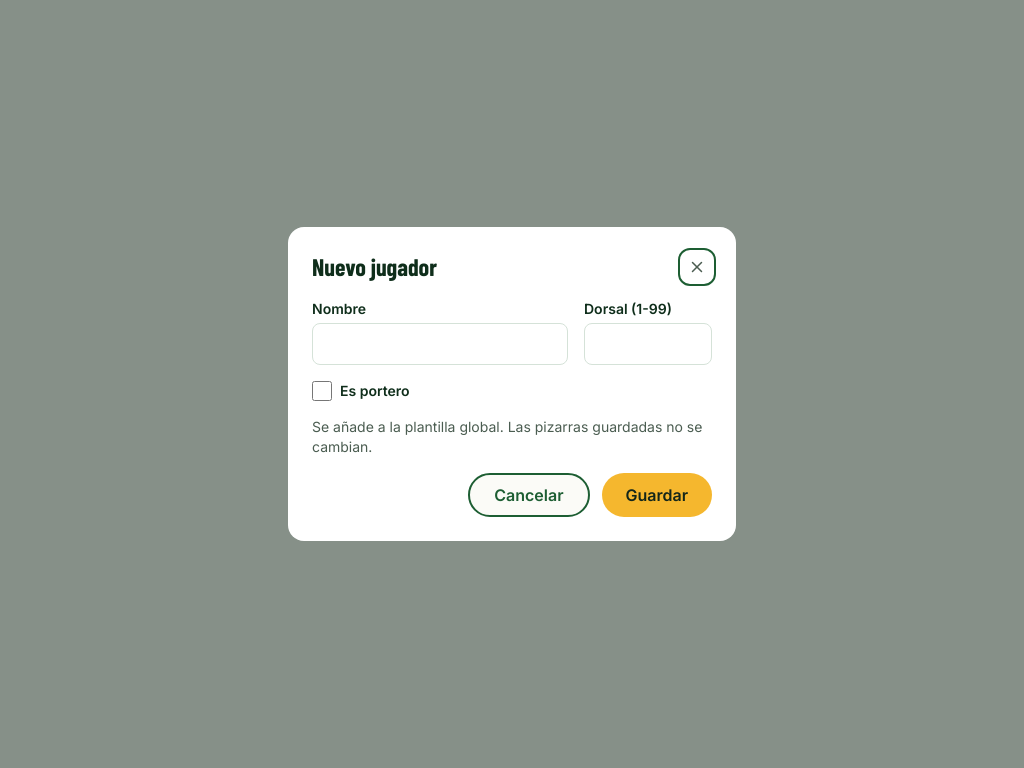
PlayerForm › debería mostrar quién lleva el dorsal si está repetido
Type "Rubén" into the field labelled "Nombre" at (440, 344), box [312,323,568,365]
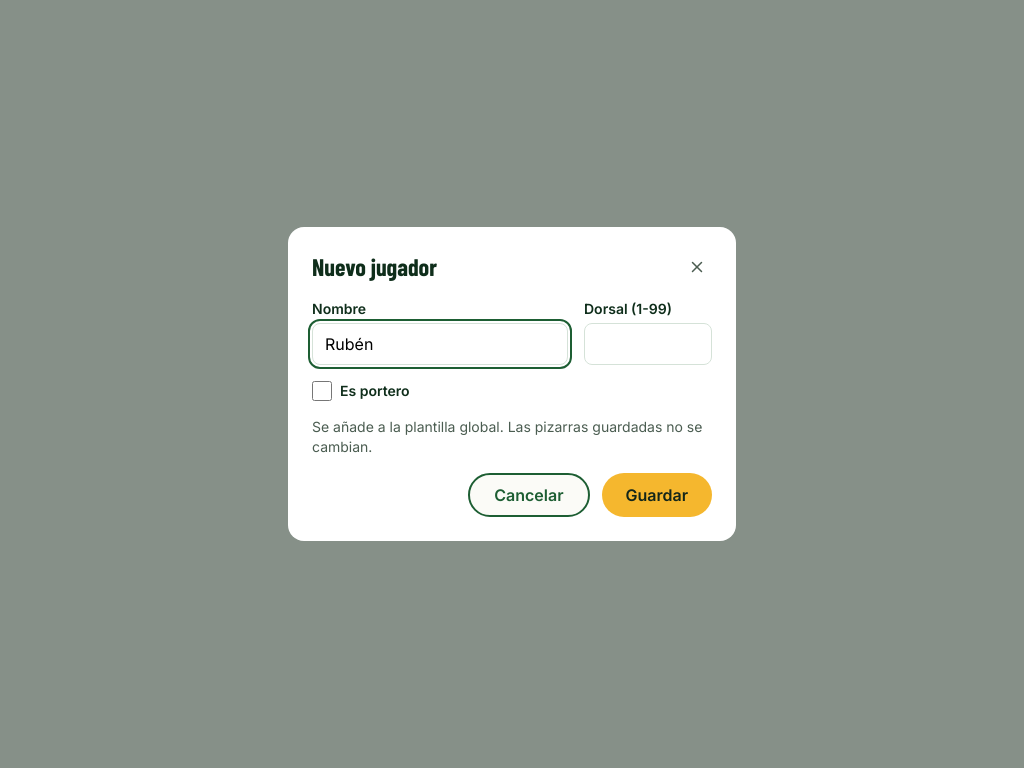
Type "10" into the number field labelled "Dorsal (1-99)" at (648, 344), box [584,323,712,365]
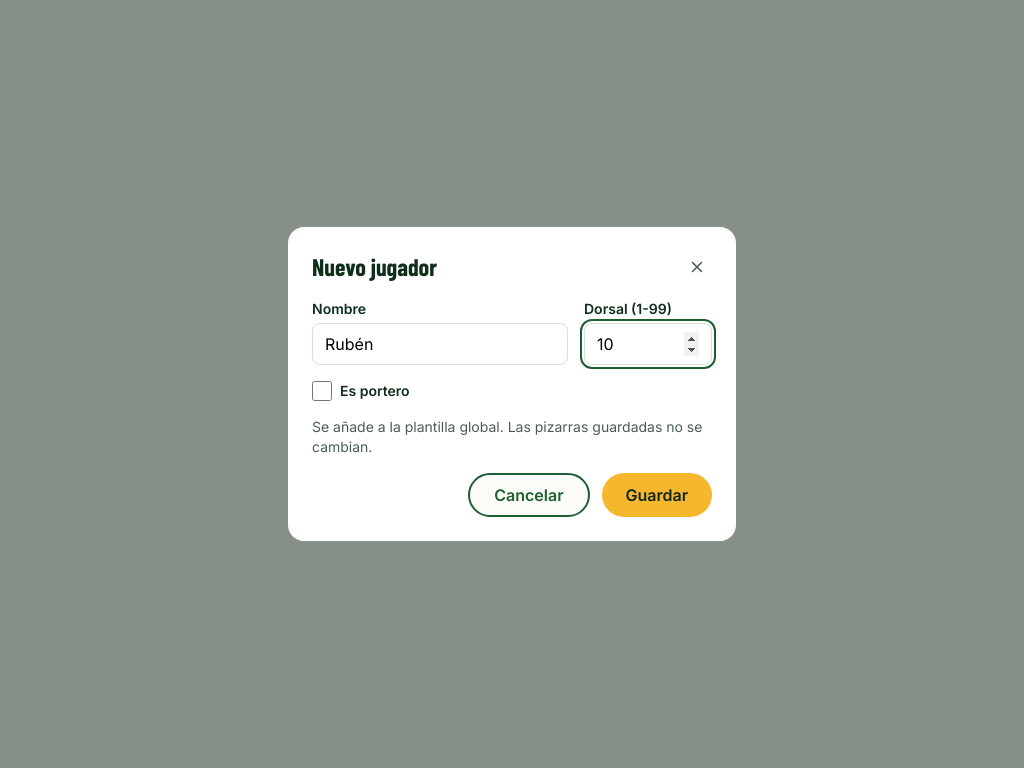
Click the button "Guardar" at (657, 495), box [602,473,712,517]
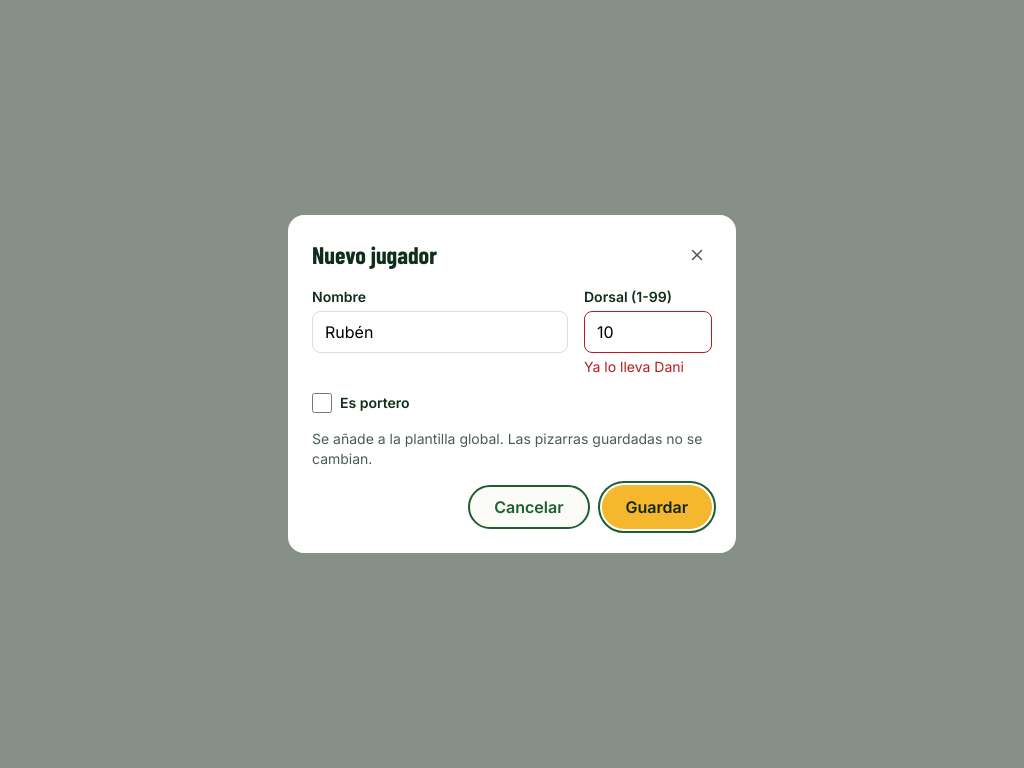
Check: the text "Ya lo lleva Dani" is shown, box [584,358,684,375]
